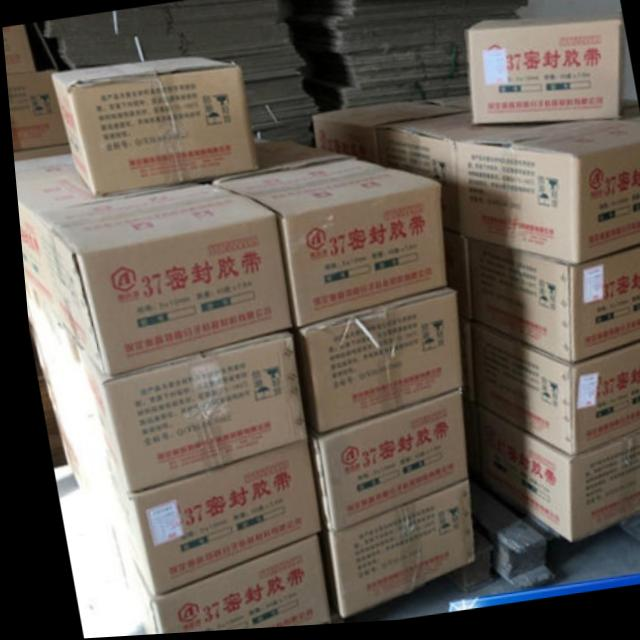box: (34, 185, 285, 377), (210, 161, 442, 332), (72, 332, 299, 496), (91, 444, 310, 598), (11, 153, 205, 322), (452, 110, 640, 273), (49, 59, 255, 199), (287, 290, 453, 437), (469, 409, 640, 548), (465, 327, 640, 461), (461, 242, 640, 370), (299, 395, 458, 534), (372, 118, 554, 239), (311, 484, 464, 622), (110, 538, 319, 636), (464, 19, 624, 130), (309, 106, 465, 167), (5, 71, 66, 160), (2, 24, 33, 73)
